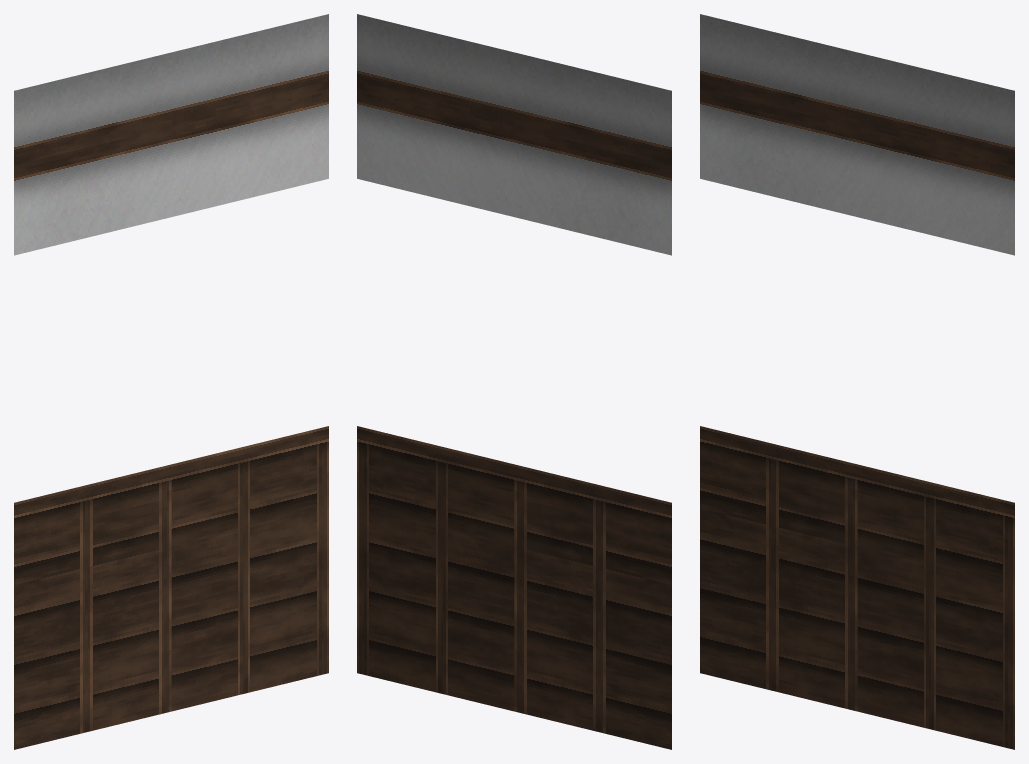
Rendered from house_big_window_wall.glb.
3 renders of one model, left to right at view 1: azimuth 30°, elevation 25°; view 2: azimuth 150°, elevation 25°; view 3: azimuth 330°, elevation 25°, orthographic.
Visible parts, largest first — view 1: house_big_window_wall; view 2: house_big_window_wall; view 3: house_big_window_wall.
Boxes of the visible parts, box(x1,y1,x2,y2) form: house_big_window_wall: box(14, 14, 328, 749); house_big_window_wall: box(357, 14, 671, 749); house_big_window_wall: box(700, 14, 1014, 749).
Bounding box in the file's own units: 2 × 4 × 0.
1 material, 1 textured.
